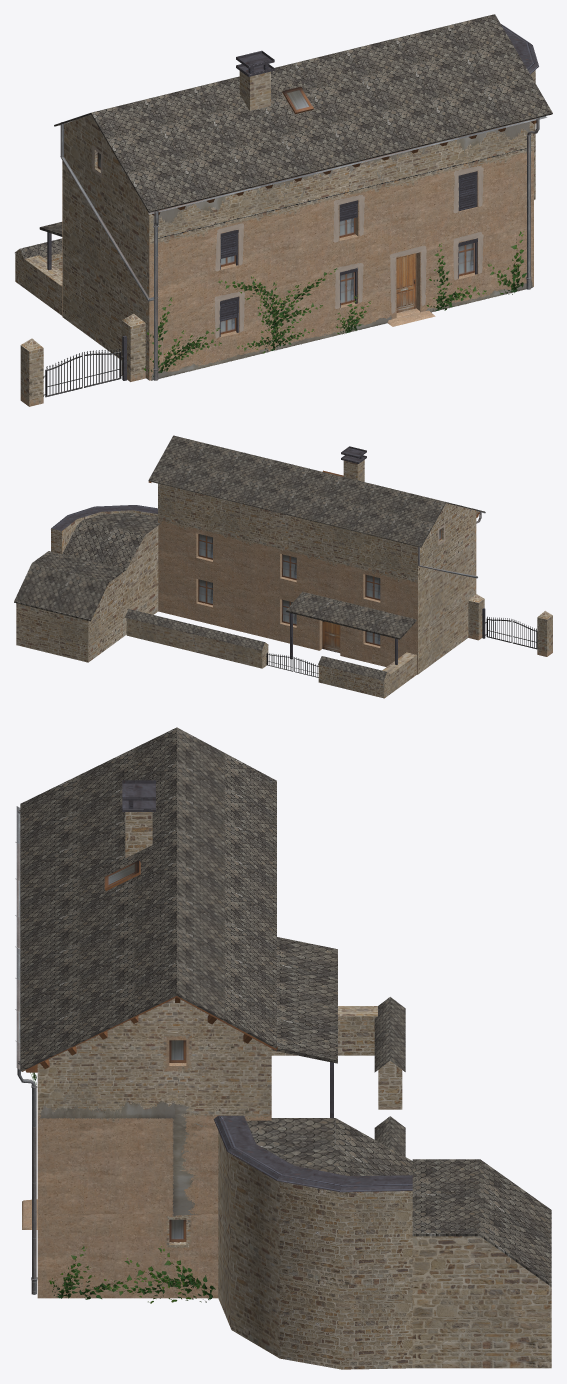
Rendered from House.fbx.
3 views of the same model, one above another, from view 1: azimuth 30°, elevation 25°; view 2: azimuth 150°, elevation 25°; view 3: azimuth 270°, elevation 25° (orthographic). The views are drawn at different scales.
Visible parts, largest first — view 1: TheHouse; view 2: TheHouse; view 3: TheHouse.
Part boxes in pixels (bbox=[...]): TheHouse: bbox=[15, 14, 552, 406]; TheHouse: bbox=[14, 435, 552, 698]; TheHouse: bbox=[15, 727, 551, 1369].
Size of the model in its own units: 25.48 by 10.7 by 14.31.
